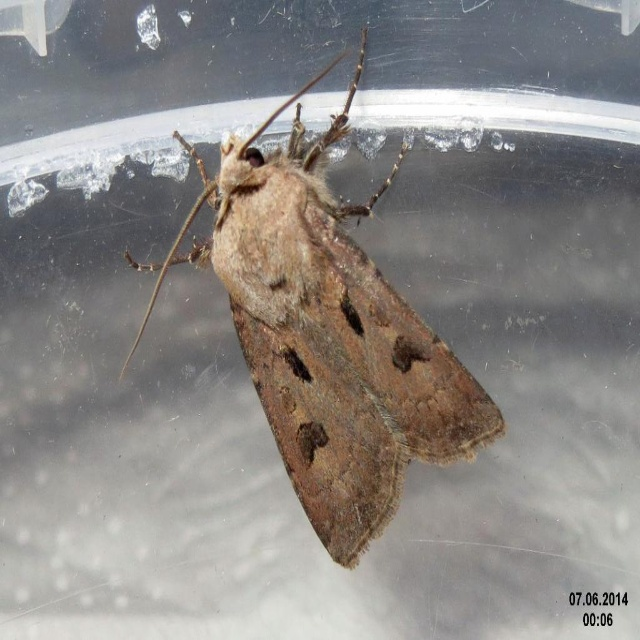Moths and butterflies: (119, 27, 510, 572)
